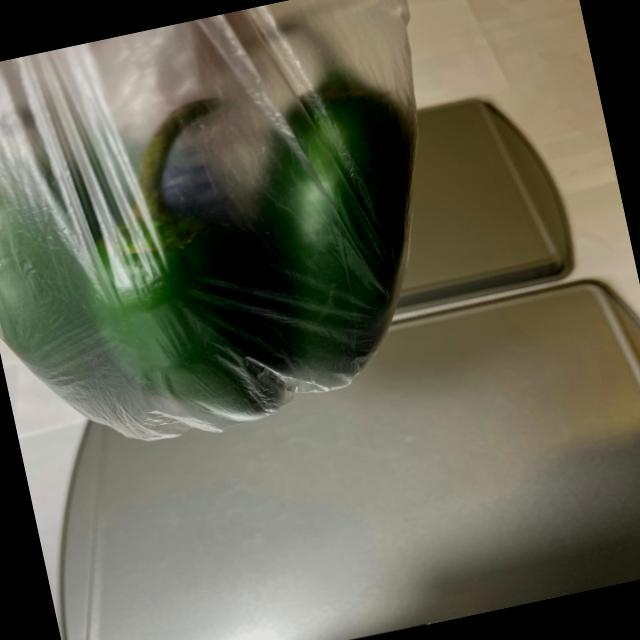chilli: (0, 0, 464, 471)
